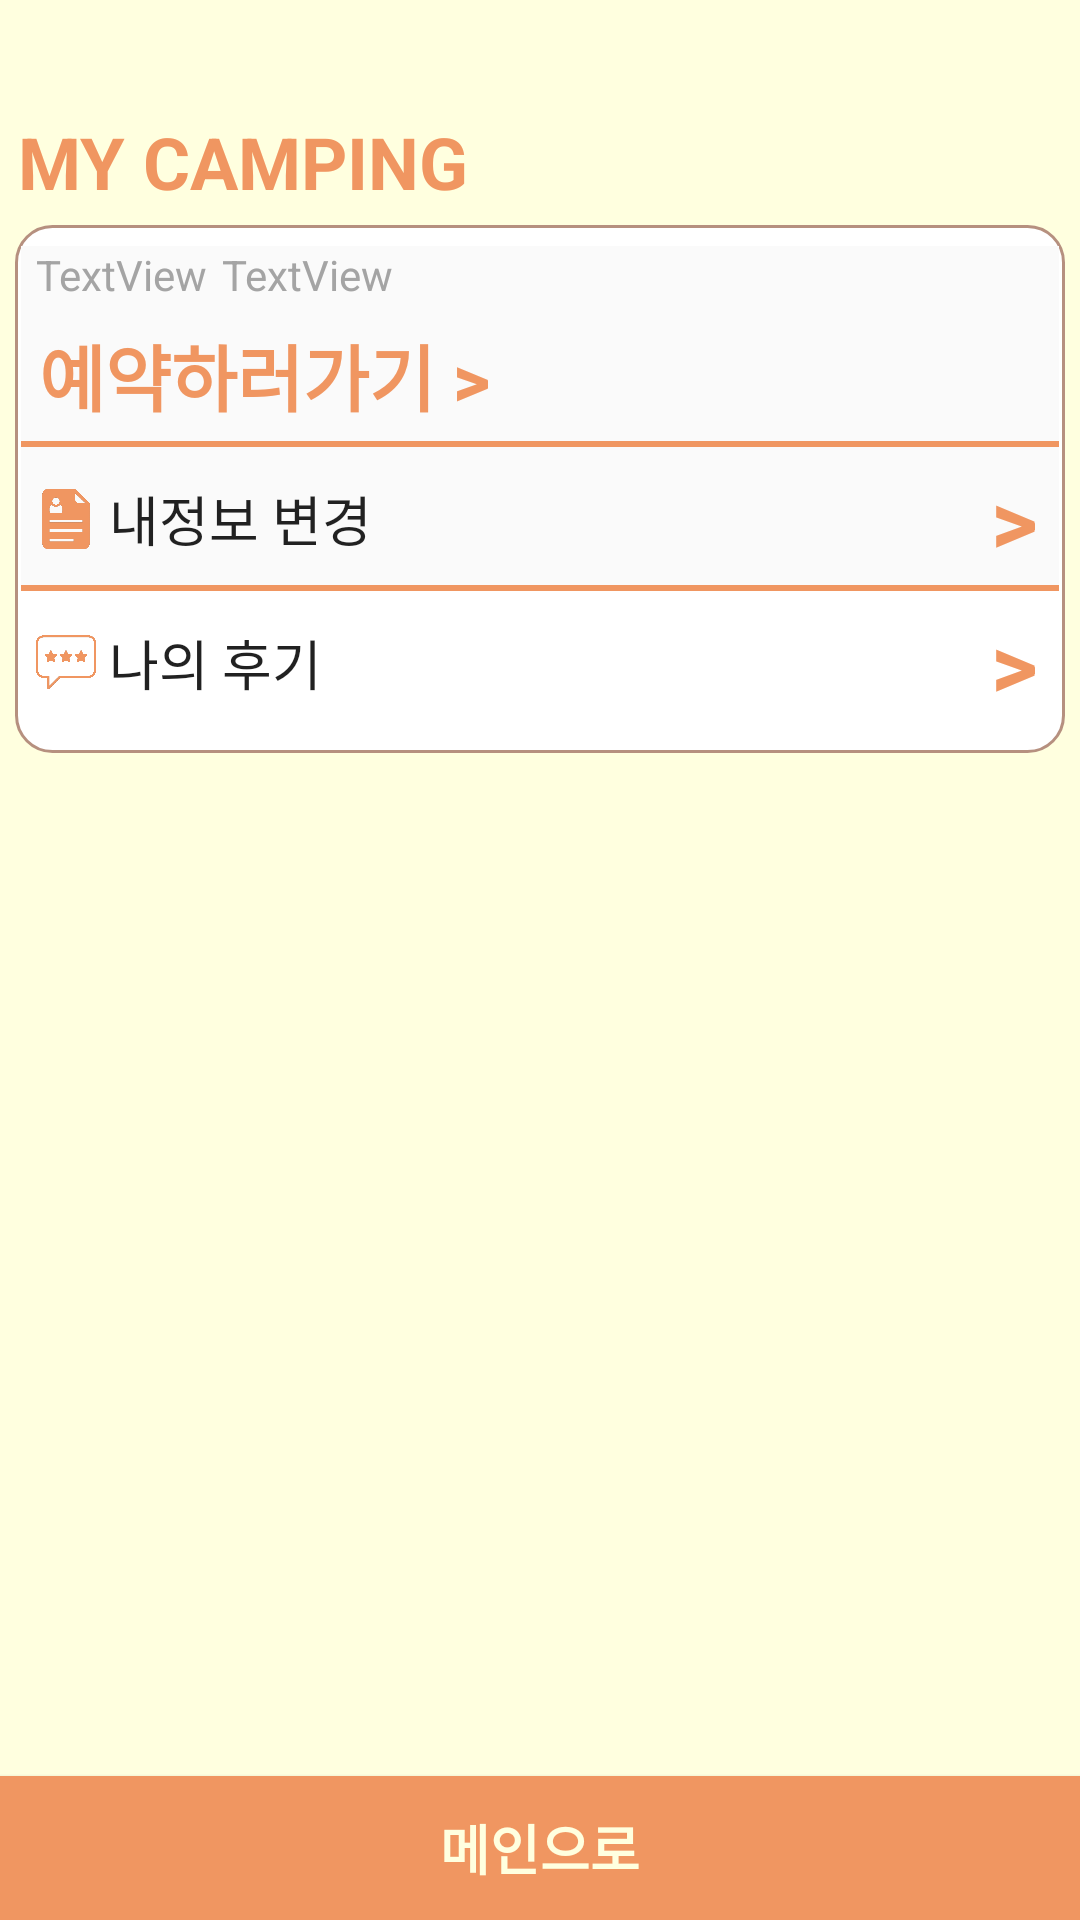

Where icons sit on this 1080 × 1920 app screen, as (x1=x1, y1=y1, x2=x2, y2=y2):
myprofile: (x1=42, y1=489, x2=90, y2=549)
review: (x1=36, y1=635, x2=96, y2=689)
